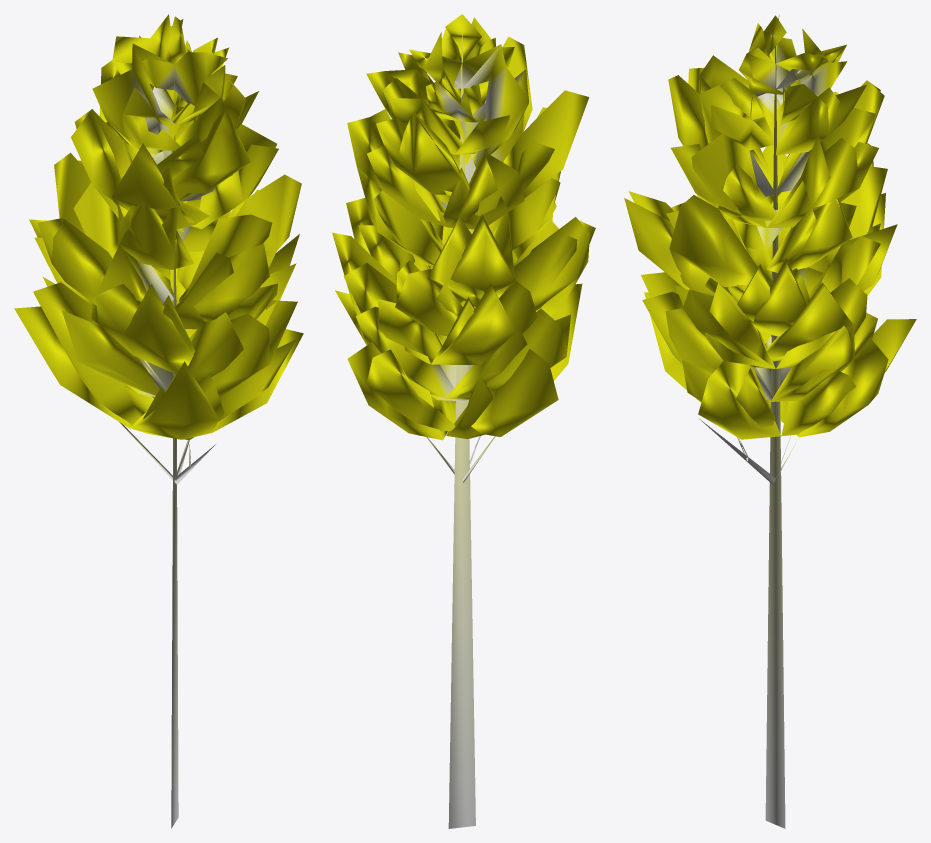
Rendered from birch_lod2.gltf.
3 renders of one model, left to right at view 1: azimuth 30°, elevation 25°; view 2: azimuth 150°, elevation 25°; view 3: azimuth 270°, elevation 25°, orthographic.
Parts seen in each view (by area): view 1: tree; view 2: tree; view 3: tree.
Boxes of the visible parts, x1=… form: tree: x1=14, y1=14, x2=303, y2=828; tree: x1=332, y1=14, x2=595, y2=828; tree: x1=624, y1=15, x2=916, y2=828.
Bounding box in the file's own units: 5.47 × 18 × 5.9.
